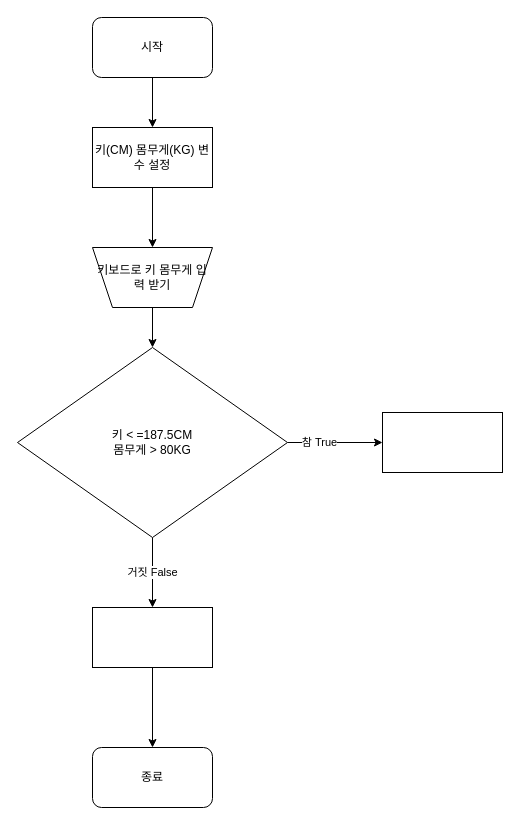
Some shapes in this 520 by 825 pixel diagram are drawn without their labels. Each missing label, with the box of its shape:
cancle 출력: (92, 606, 212, 668)
ok 출력: (382, 412, 502, 472)
